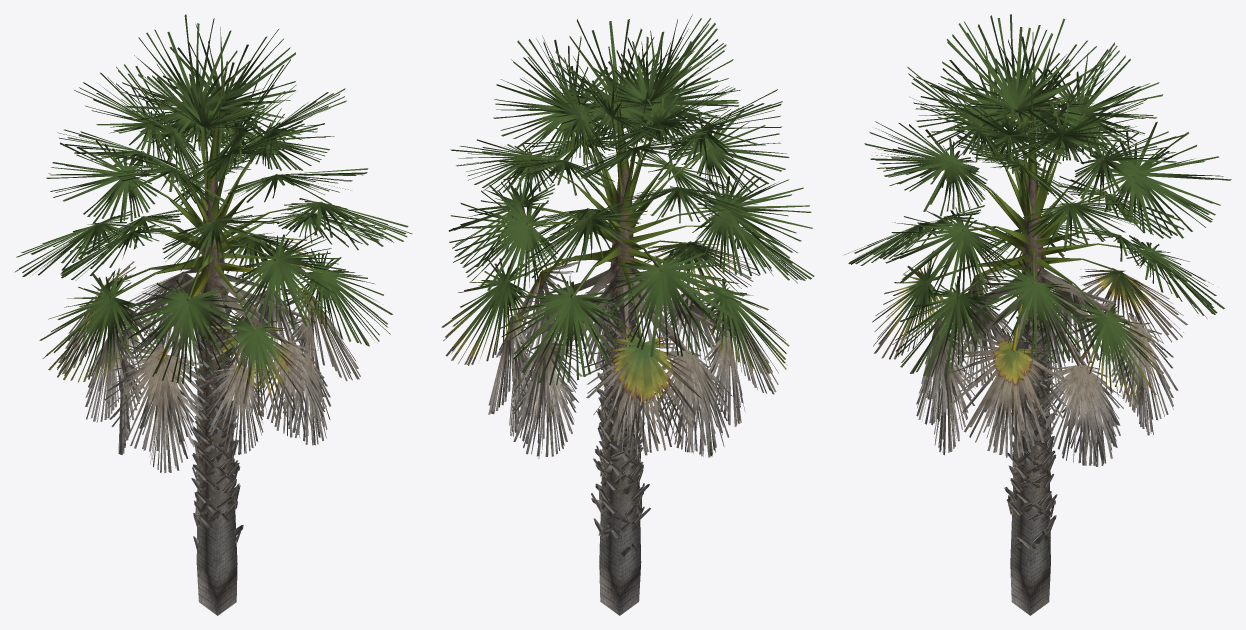
File: fanpalm_cal1.glb
The picture shows the model from 3 angles, left to right: view 1: azimuth 30°, elevation 25°; view 2: azimuth 150°, elevation 25°; view 3: azimuth 270°, elevation 25°; orthographic projection. The views are drawn at different scales.
Parts seen in each view (by area): view 1: Washingtonia_filifera_HD_w; view 2: Washingtonia_filifera_HD_w; view 3: Washingtonia_filifera_HD_w.
Boxes of the visible parts, box(x1,y1,x2,y2) form: Washingtonia_filifera_HD_w: box(14, 14, 412, 615); Washingtonia_filifera_HD_w: box(441, 14, 814, 615); Washingtonia_filifera_HD_w: box(843, 14, 1231, 615).
Bounding box in the file's own units: 6.76 × 11 × 6.91.
Materials: 11 (11 with a texture image).
